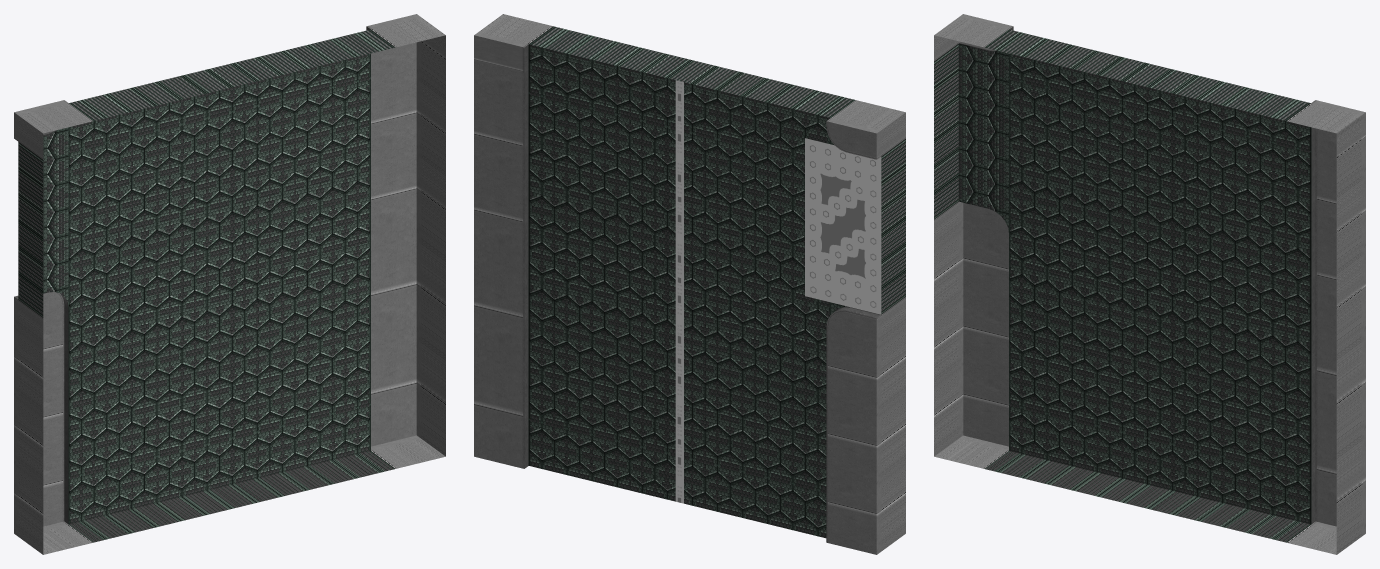
File: TC_road_T-crossroad_B.fbx
3 renders of one model, left to right at view 1: azimuth 30°, elevation 25°; view 2: azimuth 150°, elevation 25°; view 3: azimuth 330°, elevation 25°, orthographic.
Parts seen in each view (by area): view 1: TC_road_T-crossroad_B; view 2: TC_road_T-crossroad_B, crosswalk_002, light_003; view 3: TC_road_T-crossroad_B.
Boxes of the visible parts, x1=… form: TC_road_T-crossroad_B: x1=14, y1=14, x2=445, y2=554; TC_road_T-crossroad_B: x1=474, y1=14, x2=905, y2=554; crosswalk_002: x1=805, y1=138, x2=881, y2=314; light_003: x1=675, y1=80, x2=683, y2=503; TC_road_T-crossroad_B: x1=934, y1=14, x2=1365, y2=554.
Bounding box in the file's own units: 8 × 8 × 1.
